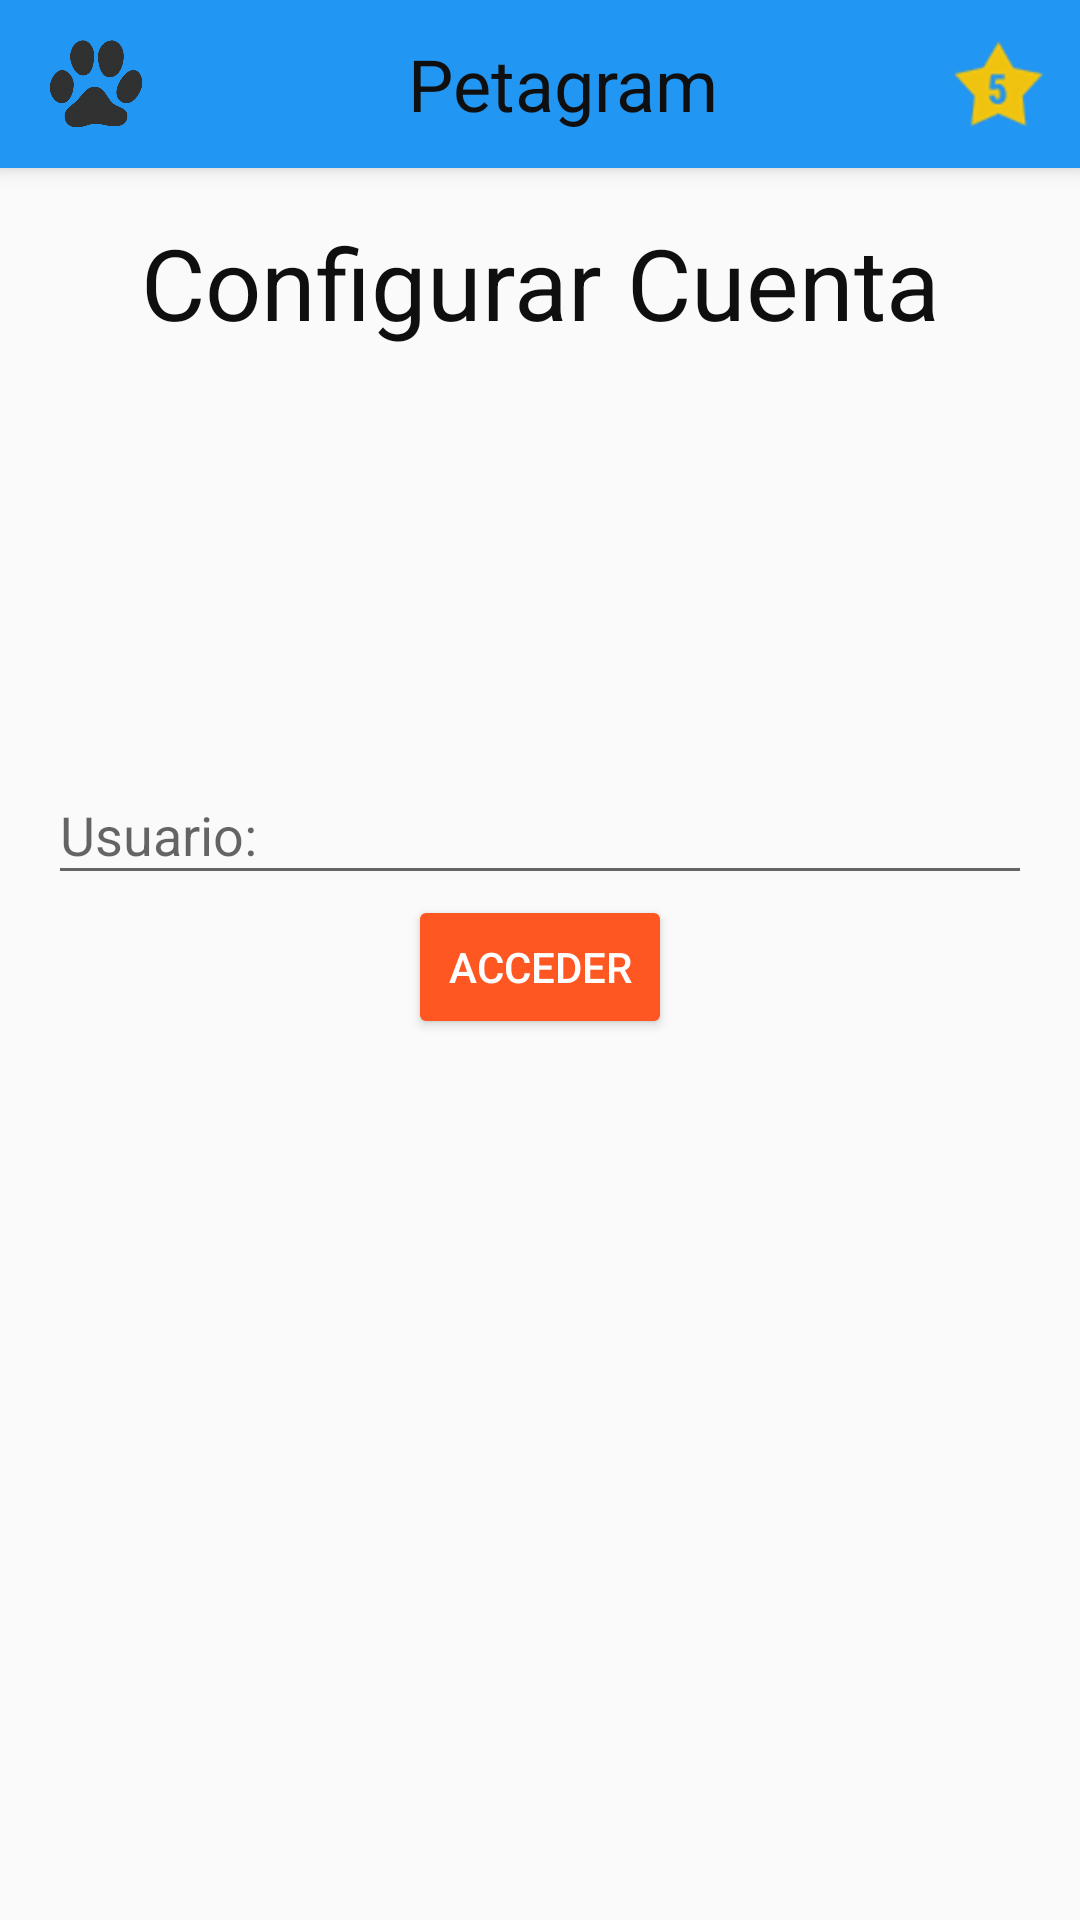

Icons on this 1080px x 1920px Android screen, each with its box as (left=x1, top=y1, right=x2, bottom=y2):
fav: (left=954, top=42, right=1043, bottom=127)
huella: (left=50, top=40, right=142, bottom=127)
